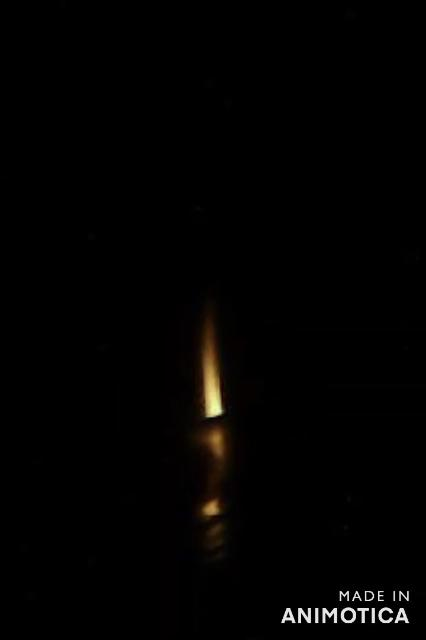burner flame: (198, 312, 228, 418)
